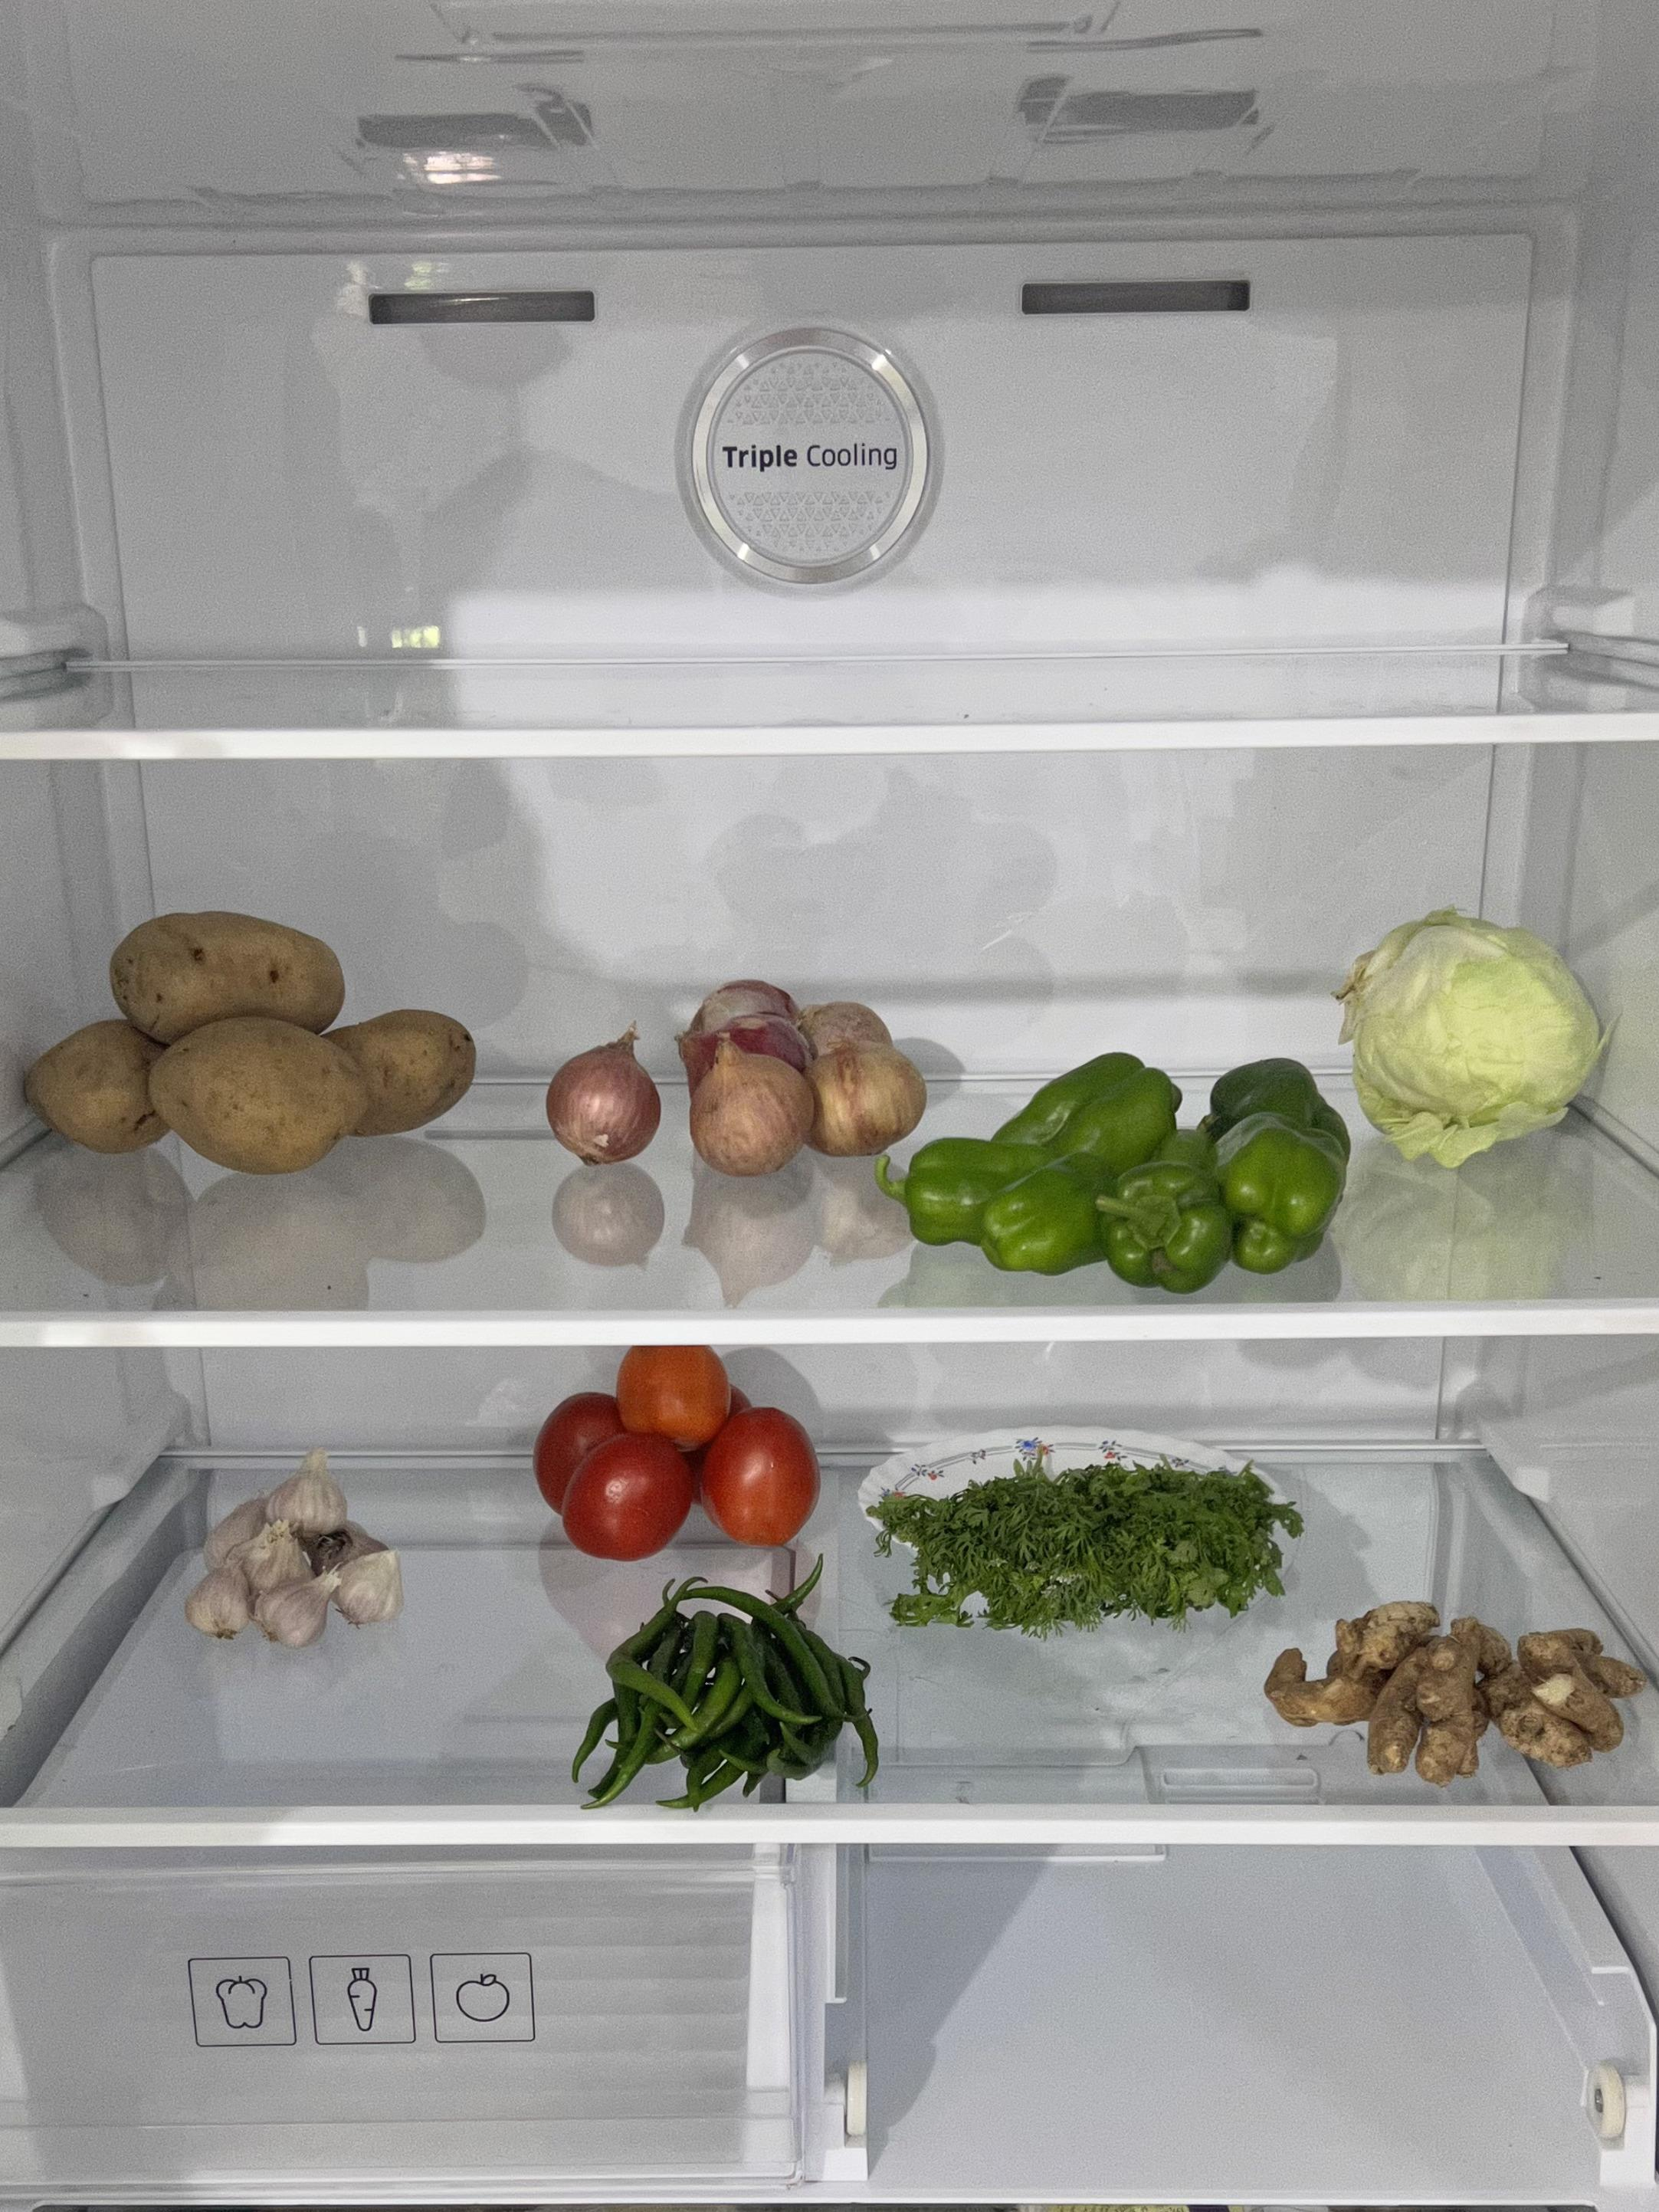cabbage: (1347, 906, 1595, 1149)
capsicum: (899, 1049, 1352, 1293)
chillies: (572, 1574, 880, 1808)
coriander: (871, 1468, 1310, 1633)
garlic: (181, 1443, 401, 1639)
ginger: (1274, 1595, 1643, 1788)
onion: (544, 976, 936, 1168)
potato: (23, 901, 476, 1164)
tomato: (533, 1339, 819, 1562)
